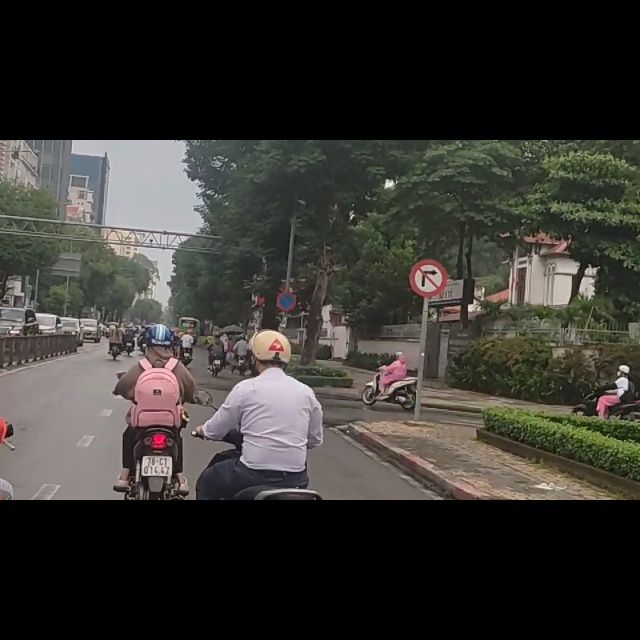bien_cam: (410, 210, 447, 277), (277, 269, 297, 305)
